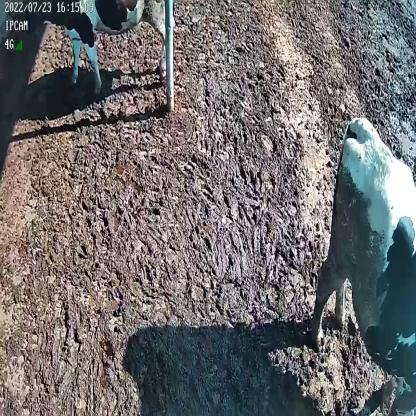cow: (37, 0, 176, 90)
